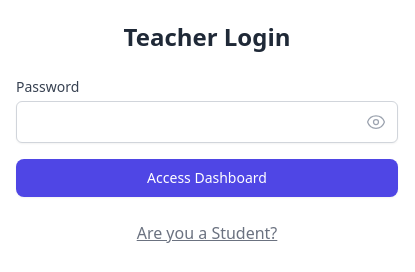
Test case: TeacherLogin › should display connection error when fetch fails
The image size is (415, 272).
Type "test" into the password field labelled "Password". click: (207, 122)
box: [16,101,398,143]
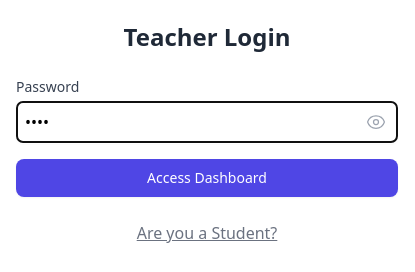
Click the button "Access Dashboard". click: (207, 178)
box: [16,159,398,197]
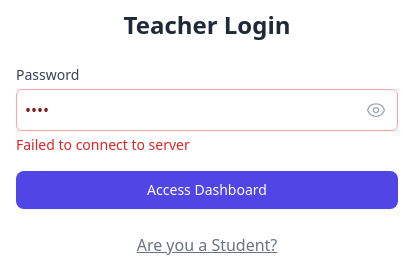
Check: the text "Failed to connect to server" is shown, box [16,135,190,154]
